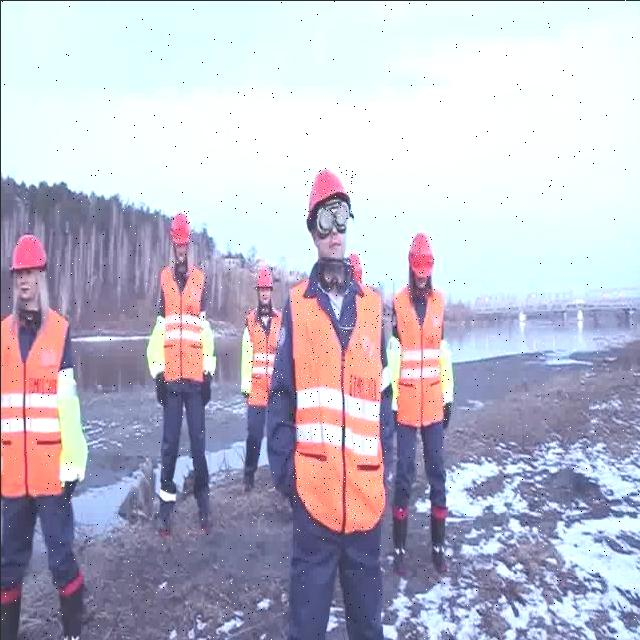Helmet: (302, 166, 352, 218), (9, 233, 47, 269), (408, 230, 436, 274), (170, 209, 192, 246), (254, 263, 272, 290), (346, 250, 361, 276)
Vest: (293, 274, 385, 530), (1, 304, 69, 498), (393, 282, 444, 427), (158, 260, 206, 386), (244, 307, 282, 407)
